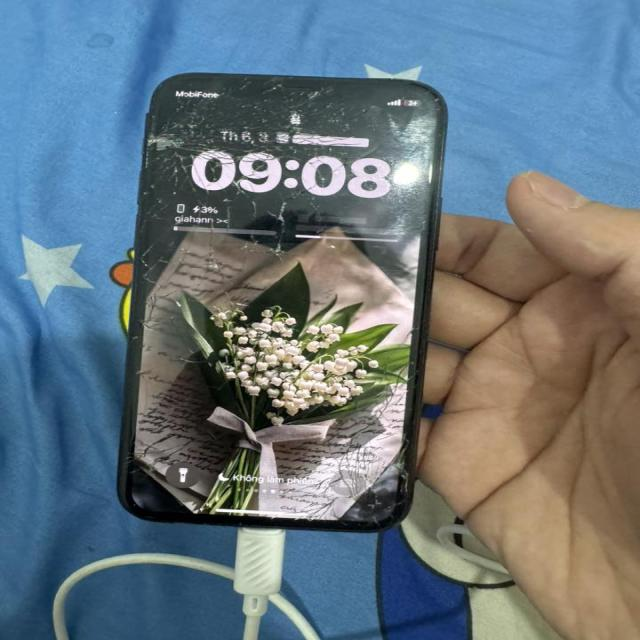gen_12_13: (113, 69, 448, 536)
physical_damage: (142, 95, 222, 186), (370, 363, 438, 422), (133, 279, 201, 336), (127, 335, 227, 373), (283, 480, 348, 528), (188, 229, 250, 277), (351, 484, 414, 530), (251, 229, 316, 273), (139, 228, 189, 284), (222, 110, 284, 153), (223, 71, 288, 111), (122, 443, 179, 488), (144, 190, 207, 230), (393, 324, 441, 376), (353, 413, 416, 452), (130, 375, 166, 441), (221, 154, 289, 187), (252, 189, 304, 231), (299, 437, 352, 477), (351, 450, 413, 484), (288, 75, 333, 119), (306, 187, 352, 230), (335, 136, 393, 169), (287, 120, 333, 160), (335, 101, 386, 136), (208, 188, 252, 226), (287, 161, 333, 187)
